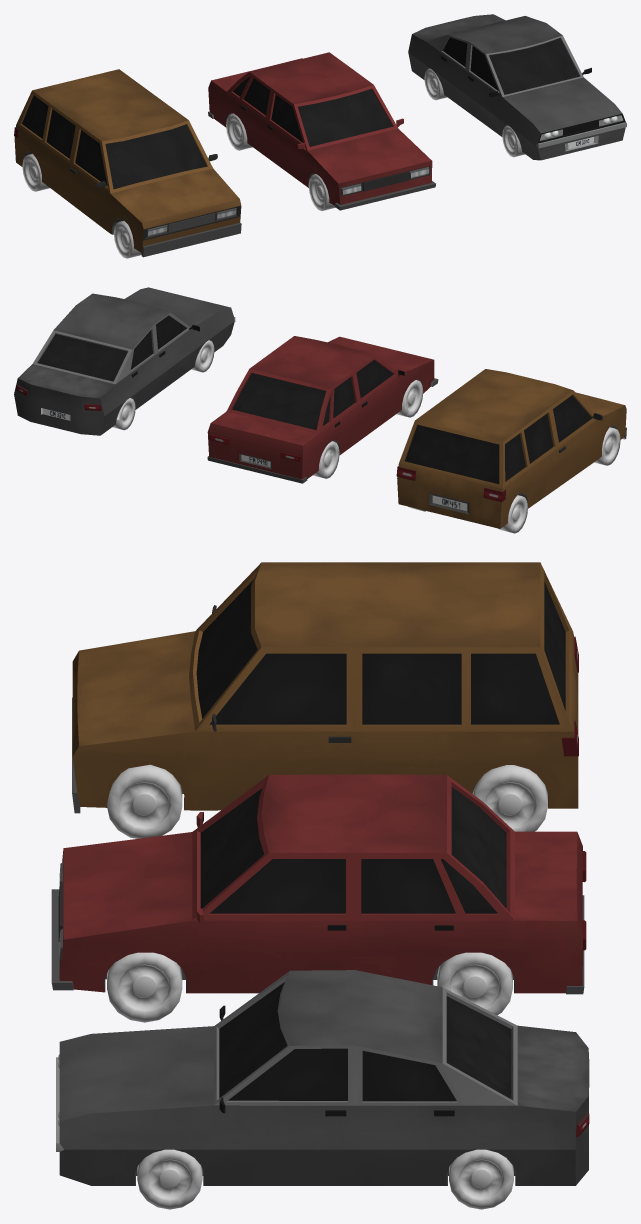
The model's file is cars.fbx.
3 views of the same model, one above another, from view 1: azimuth 30°, elevation 25°; view 2: azimuth 150°, elevation 25°; view 3: azimuth 270°, elevation 25° (orthographic). The views are drawn at different scales.
Visible parts, largest first — view 1: car3.001, car2.001, car1.001; view 2: car3.001, car2.001, car1.001; view 3: car3.001, car2.001, car1.001.
Part boxes in pixels (left/top/right/bottom): car3.001: left=14, top=69, right=241, bottom=258; car2.001: left=208, top=52, right=435, bottom=210; car1.001: left=408, top=14, right=626, bottom=160; car3.001: left=396, top=369, right=626, bottom=533; car2.001: left=207, top=336, right=438, bottom=483; car1.001: left=14, top=287, right=235, bottom=435; car3.001: left=72, top=562, right=578, bottom=838; car2.001: left=51, top=774, right=586, bottom=1022; car1.001: left=56, top=970, right=589, bottom=1209.
Bounding box in the file's own units: 808 × 144 × 378.
